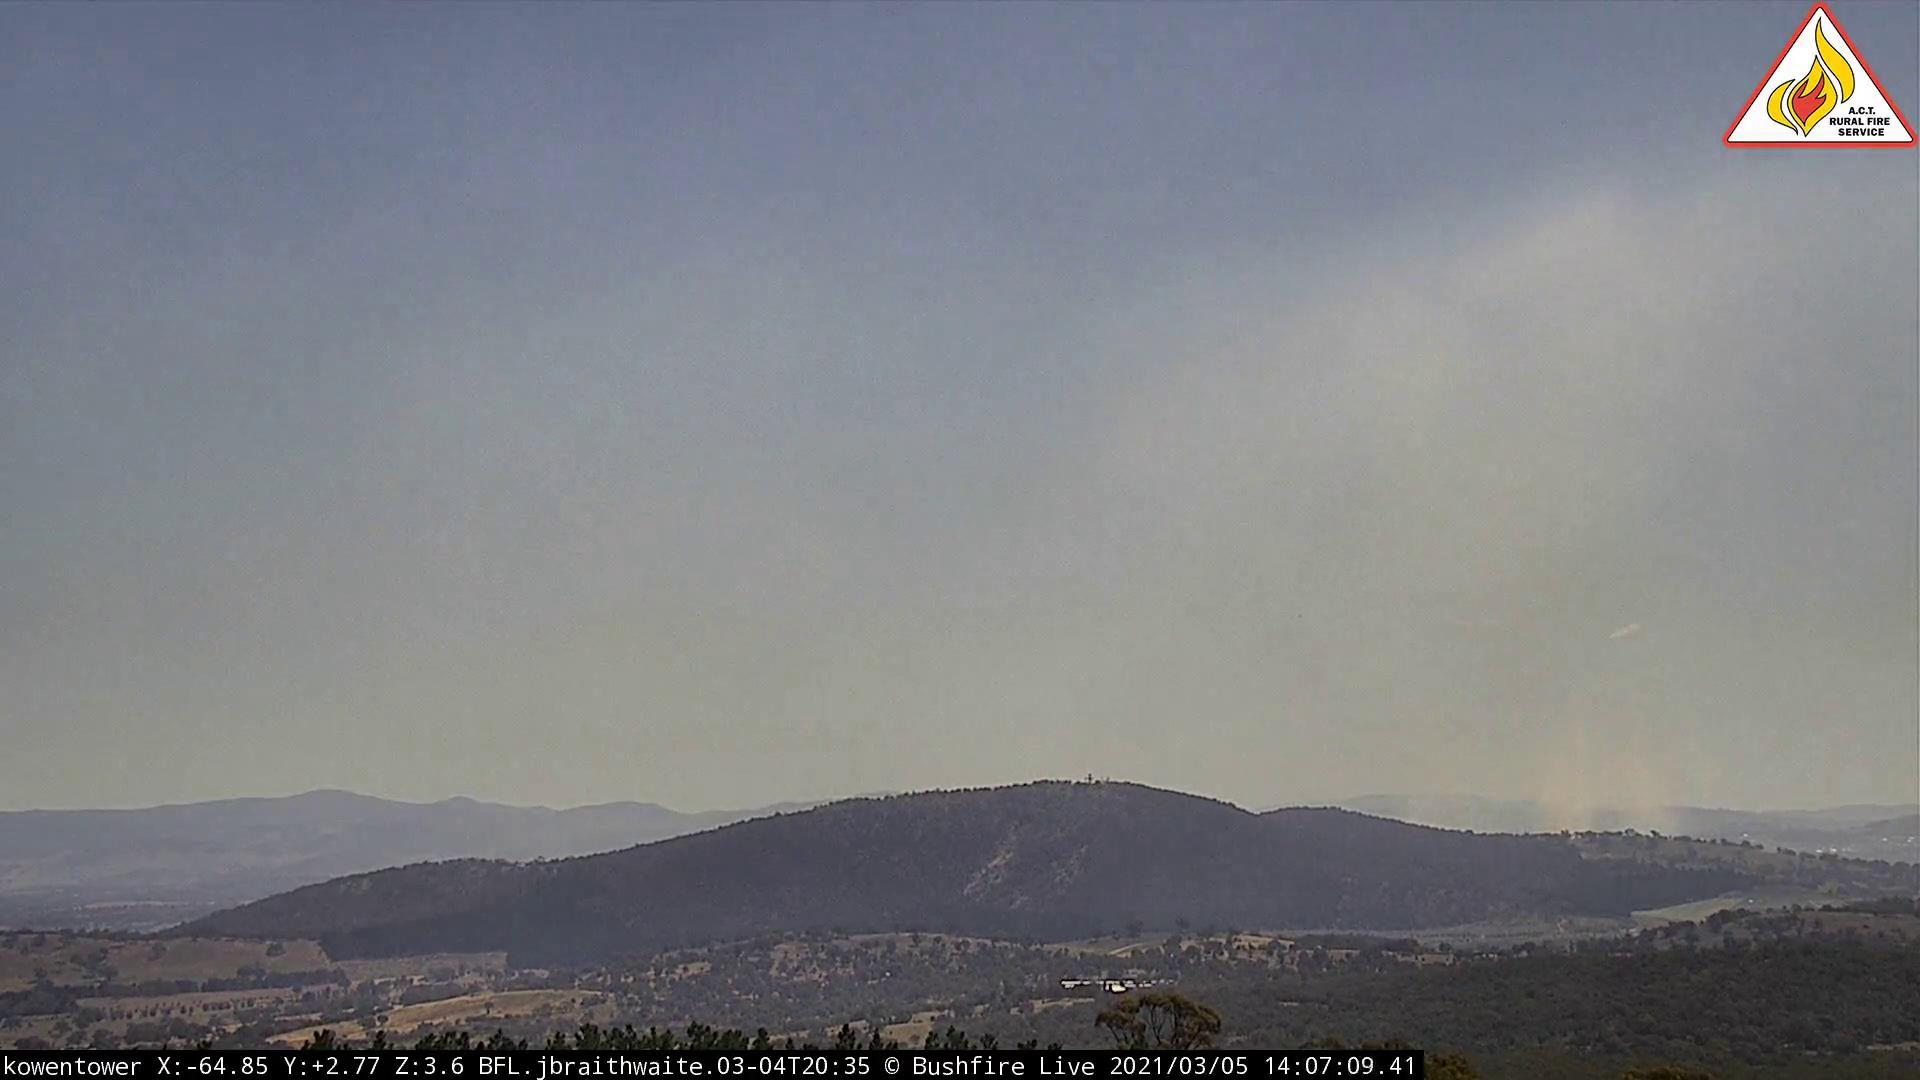Smoke: (1382, 626, 1710, 843)
